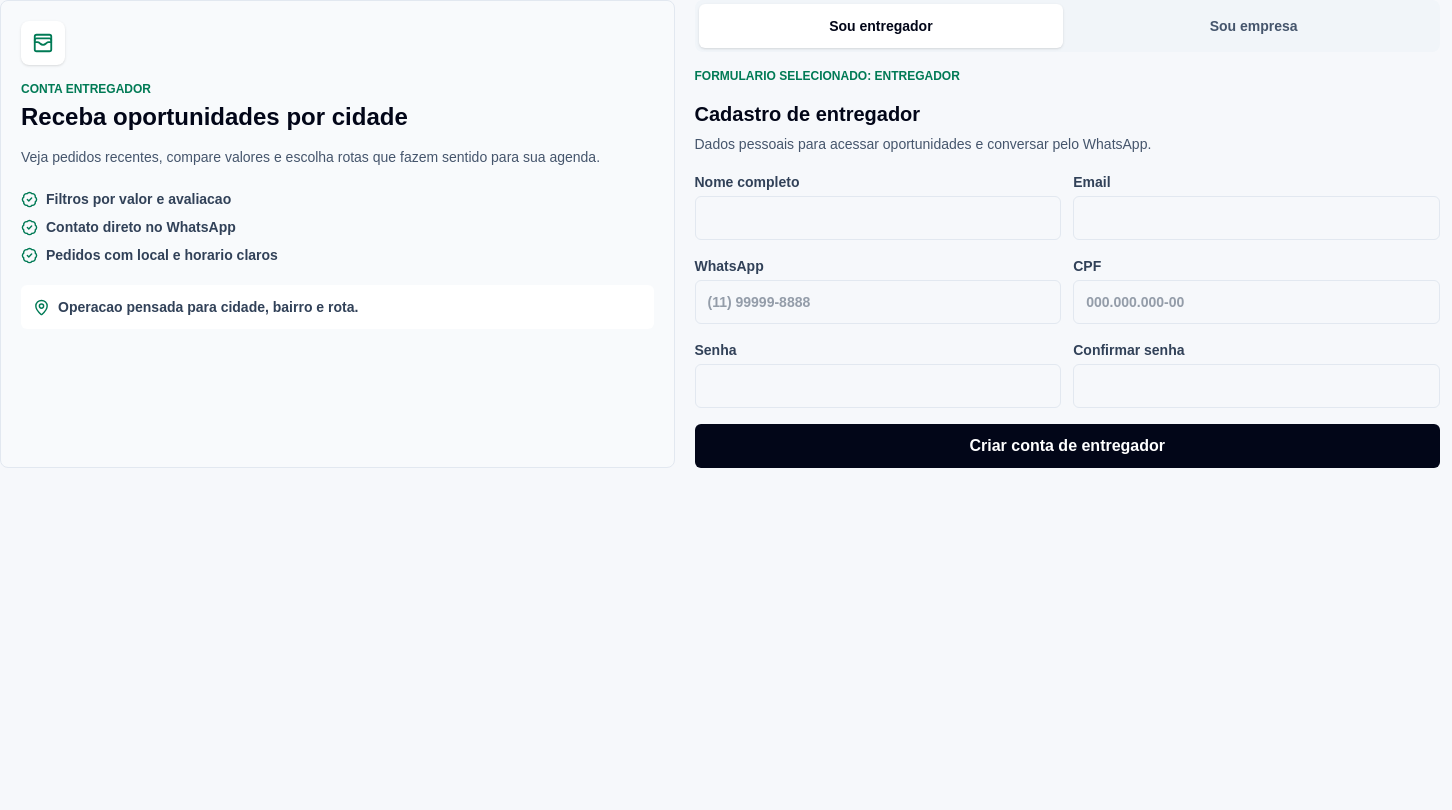
RegisterForm › makes the selected account form explicit and updates the registration URL
Expected: the text "Formulario selecionado: entregador" is shown, [694,69,960,83]
Click the button "Sou empresa" at (1254, 26), box [1071,4,1436,48]
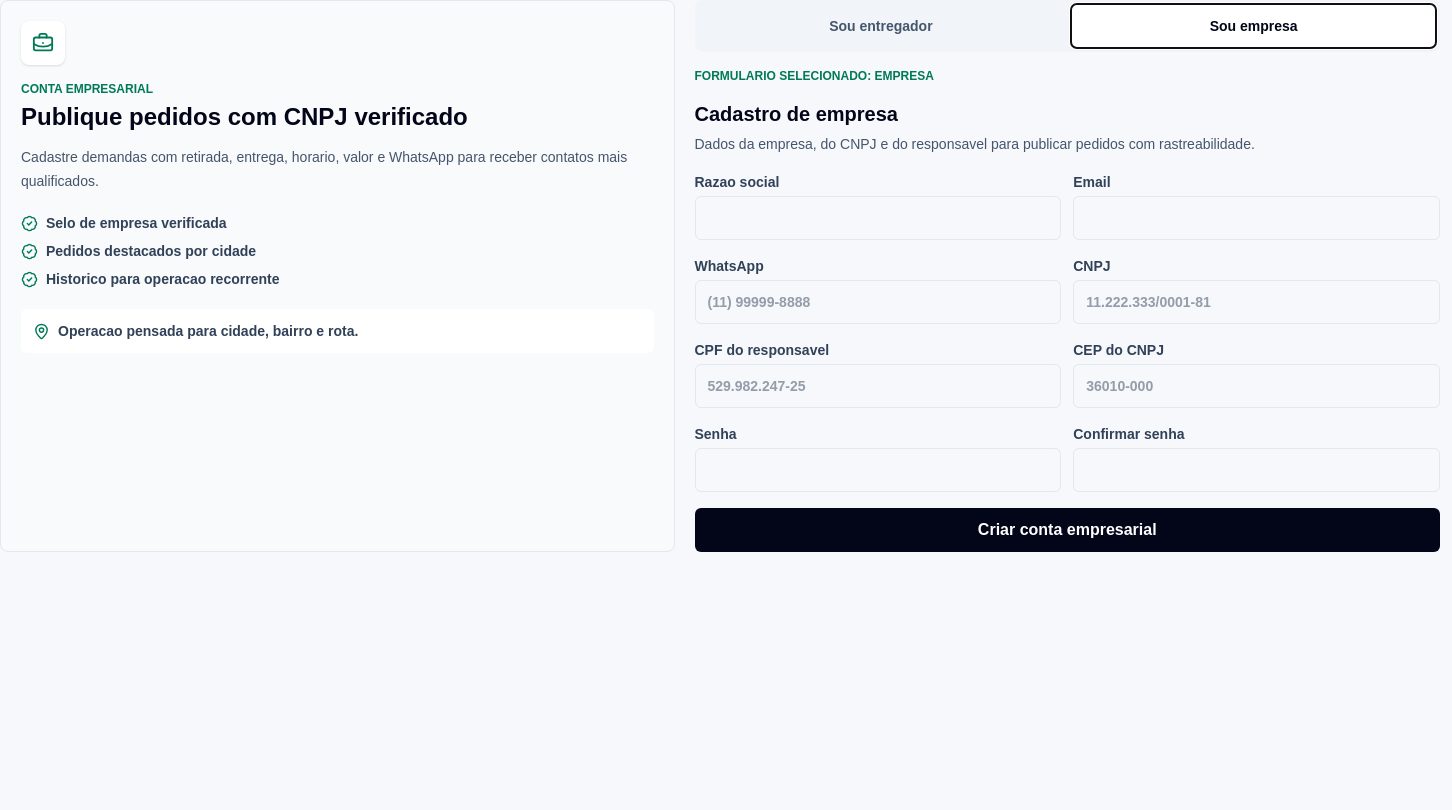
Now the text "Formulario selecionado: empresa" is shown, box [694,69,934,83]
Click the button "Sou entregador" at (881, 26), box [698,4,1063,48]
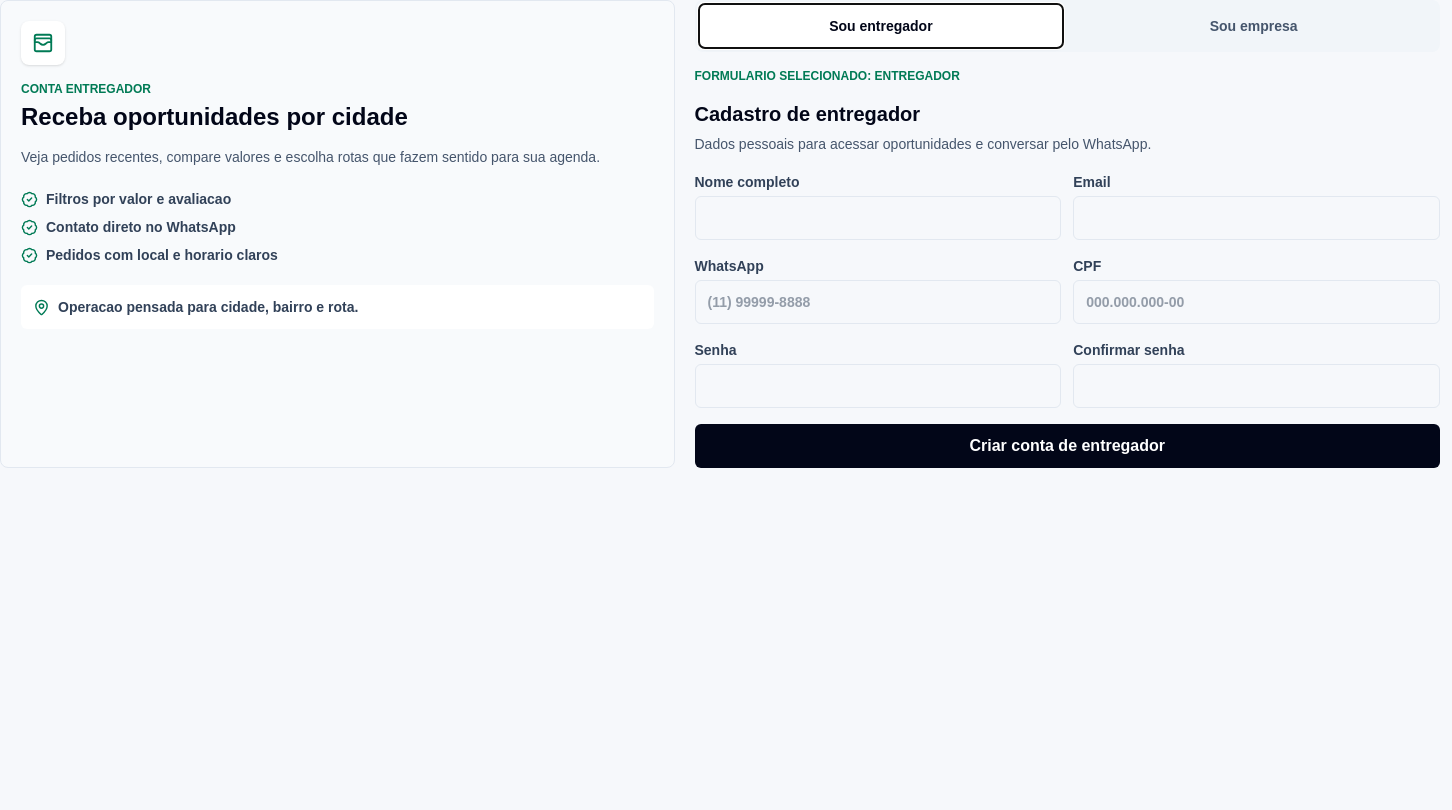
Now the text "Formulario selecionado: entregador" is shown, box [694,69,960,83]
